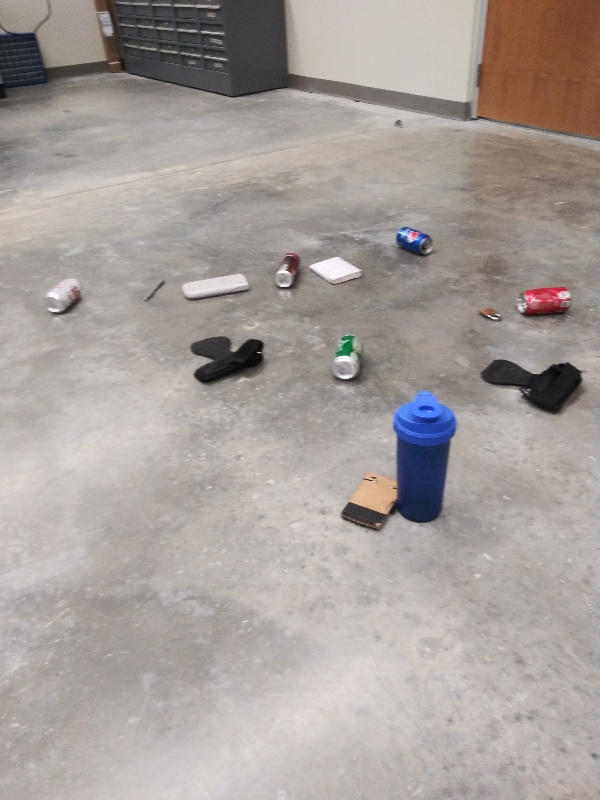can: (328, 328, 366, 381), (514, 285, 573, 319), (43, 276, 87, 317), (394, 223, 436, 256), (274, 251, 306, 289)
